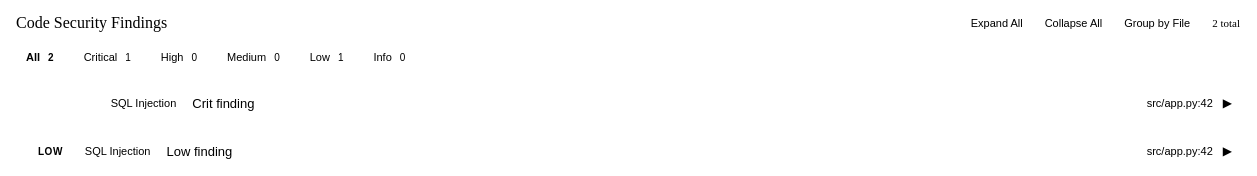
Scenario: CodeSecurityFindings › filters findings by severity
This screenshot has width=1257, height=176.
Click the button "critical 1" at (109, 57), box [74,47,145,67]
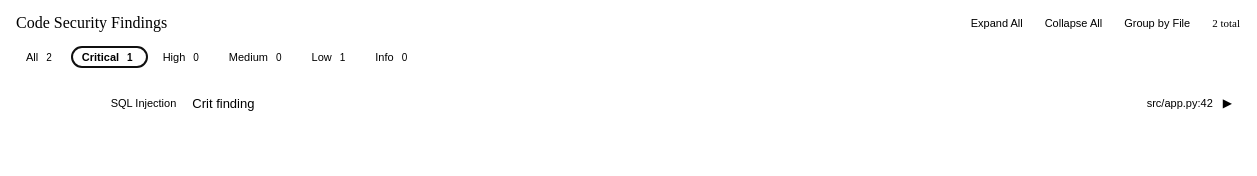
Check: the text "Crit finding" is shown, box [192,96,254,110]
Check: the button "Low finding" is gone
